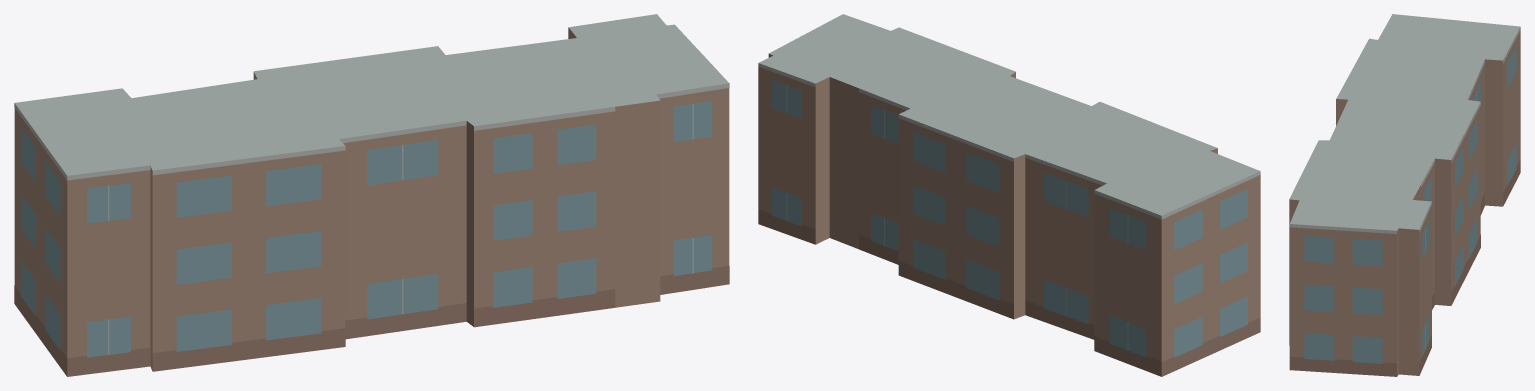
Rendered from survey-upis-32979145.glb.
3 renders of one model, left to right at view 1: azimuth 30°, elevation 25°; view 2: azimuth 150°, elevation 25°; view 3: azimuth 270°, elevation 25°, orthographic. The views are drawn at different scales.
Visible parts, largest first — view 1: survey-upis-32979145.tmp; view 2: survey-upis-32979145.tmp; view 3: survey-upis-32979145.tmp.
Boxes of the visible parts, bbox=[...] form: survey-upis-32979145.tmp: bbox=[14, 14, 729, 376]; survey-upis-32979145.tmp: bbox=[758, 14, 1260, 376]; survey-upis-32979145.tmp: bbox=[1289, 14, 1520, 376].
Size of the model in its own units: 34.04 by 10.7 by 15.35.
